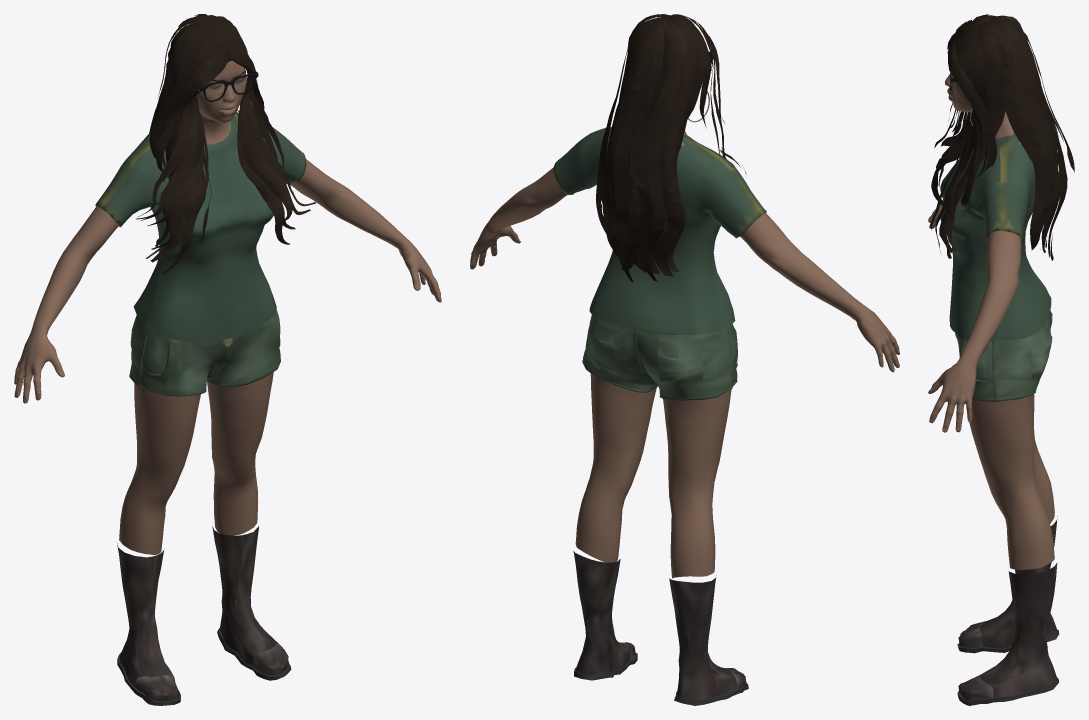
Rendered from 0005-People-cast-cooked-mh-55.glb.
3 views of the same model, side by side, from view 1: azimuth 30°, elevation 25°; view 2: azimuth 150°, elevation 25°; view 3: azimuth 270°, elevation 25° (orthographic).
Parts seen in each view (by area): view 1: People: cast (cooked)/mh_55; view 2: People: cast (cooked)/mh_55; view 3: People: cast (cooked)/mh_55.
Part boxes in pixels (x1,y1,x2,y2): People: cast (cooked)/mh_55: [14, 14, 441, 705]; People: cast (cooked)/mh_55: [470, 14, 899, 705]; People: cast (cooked)/mh_55: [928, 14, 1074, 705].
Bounding box in the file's own units: 1.14 × 1.71 × 0.3475.
